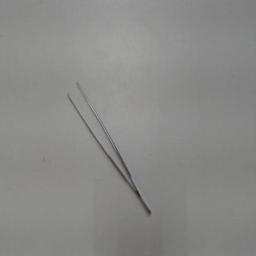Gillies Toothed Dissector: (64, 68, 154, 222)
